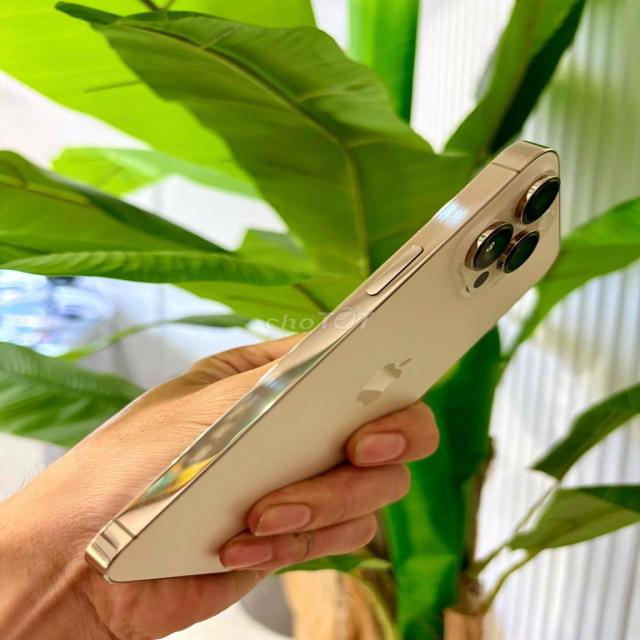gen_14: (86, 130, 573, 591)
